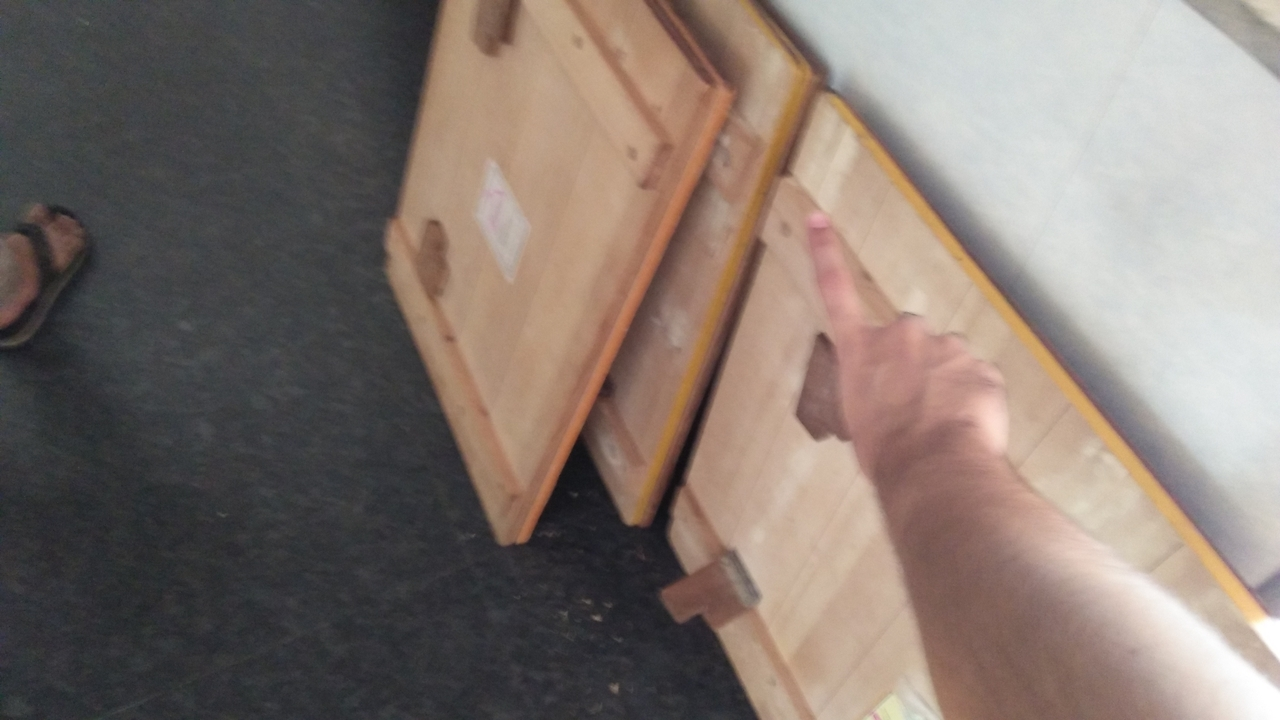fingertip: (793, 207, 840, 237)
